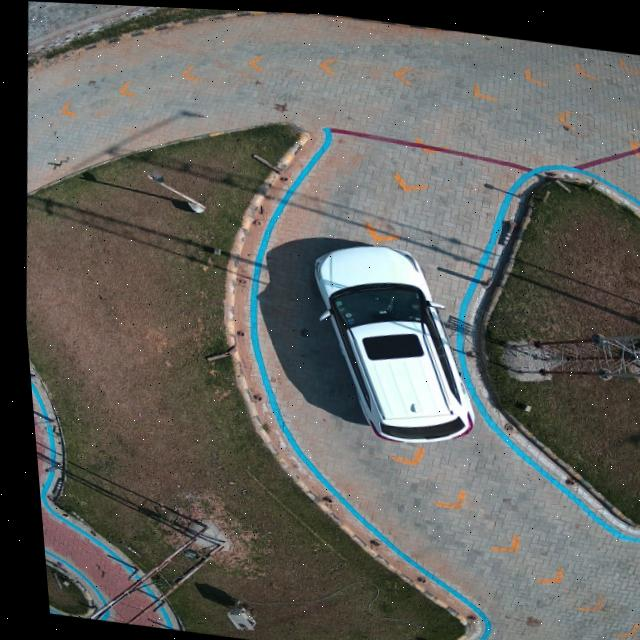car: (309, 242, 464, 439)
